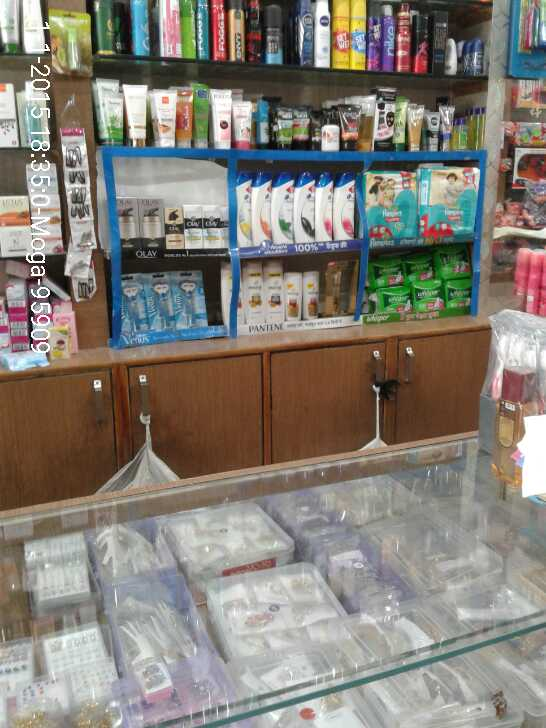venus: (175, 270, 203, 326), (147, 272, 175, 326), (123, 272, 147, 333)
